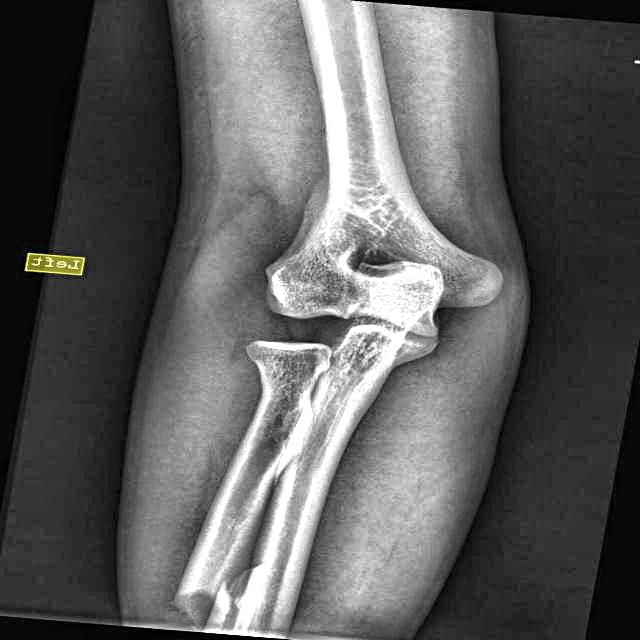Spiral: (165, 547, 299, 633)
